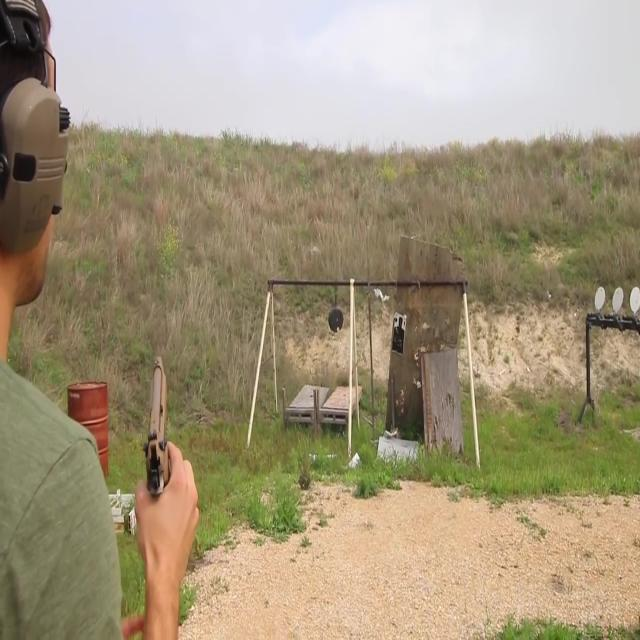Weapon: (115, 298, 203, 520)
